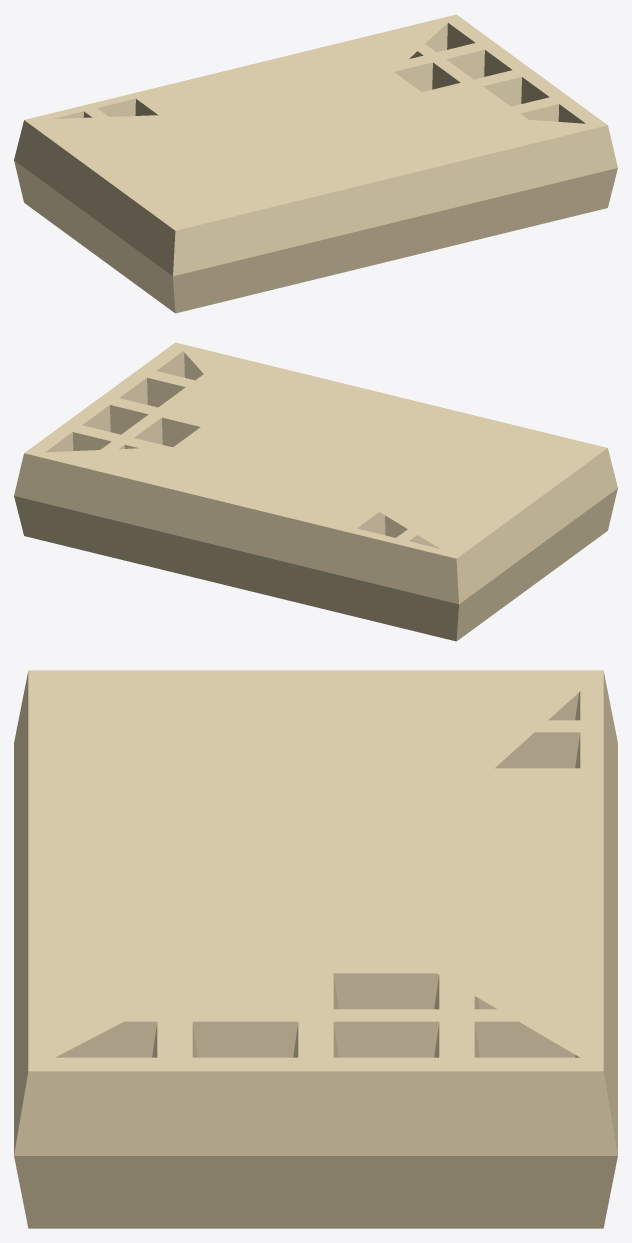
Rendered from Waffle.fbx.
3 renders of one model, top to bottom at view 1: azimuth 30°, elevation 25°; view 2: azimuth 150°, elevation 25°; view 3: azimuth 270°, elevation 25°, orthographic. The views are drawn at different scales.
Parts seen in each view (by area): view 1: Waffle; view 2: Waffle; view 3: Waffle.
Boxes of the visible parts, x1,y1,x2,y2 form: Waffle: (14,14,617,313); Waffle: (14,342,617,641); Waffle: (14,670,617,1228).
Bounding box in the file's own units: 0.1306 × 0.0232 × 0.0808.
